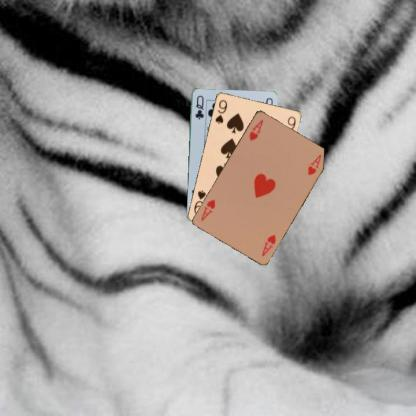9s: (213, 97, 228, 125)
Ah: (259, 232, 277, 257), (247, 116, 264, 142)
Qc: (193, 92, 205, 121)
